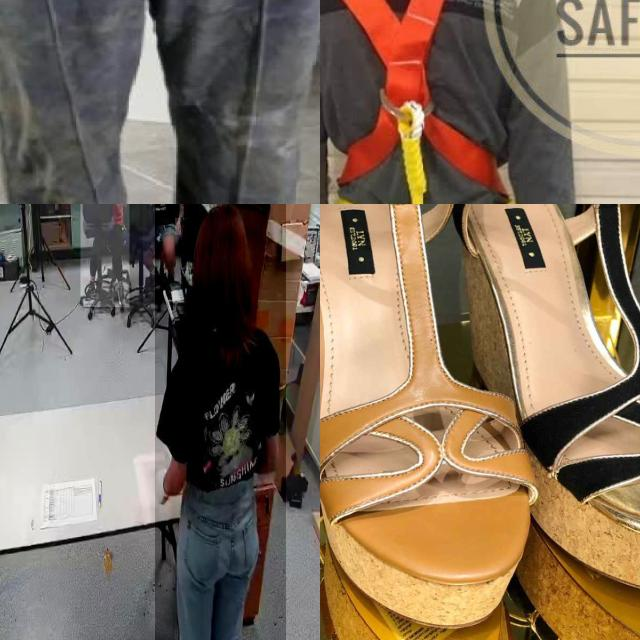Harness: (320, 0, 535, 204)
Sandals: (320, 204, 537, 640), (415, 204, 640, 606)
hand_noglove: (175, 218, 181, 236)
head_nohelmet: (192, 204, 249, 259)
person: (155, 204, 286, 640), (80, 204, 129, 307), (143, 204, 185, 310)
